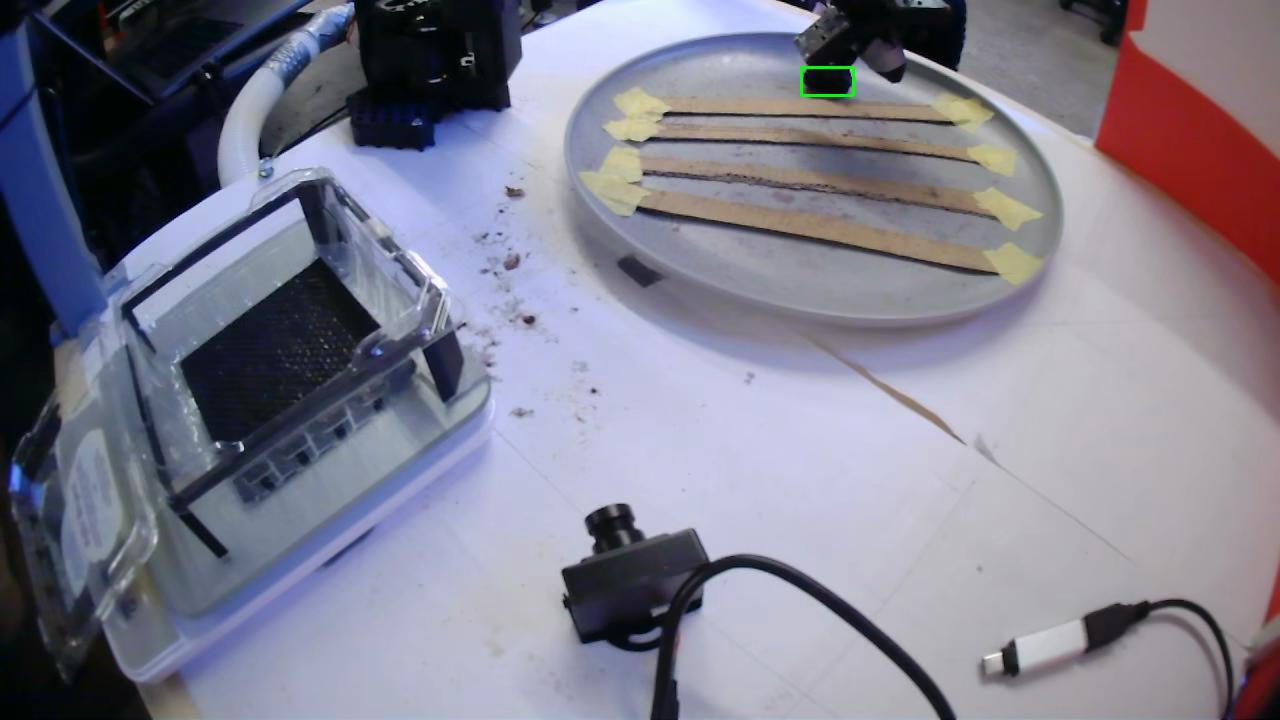berry: (804, 67, 851, 91)
